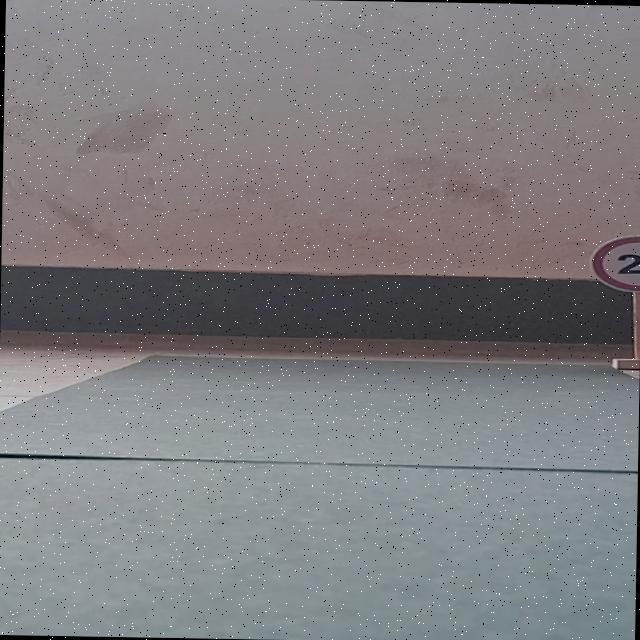Speed20: (584, 228, 640, 293)
